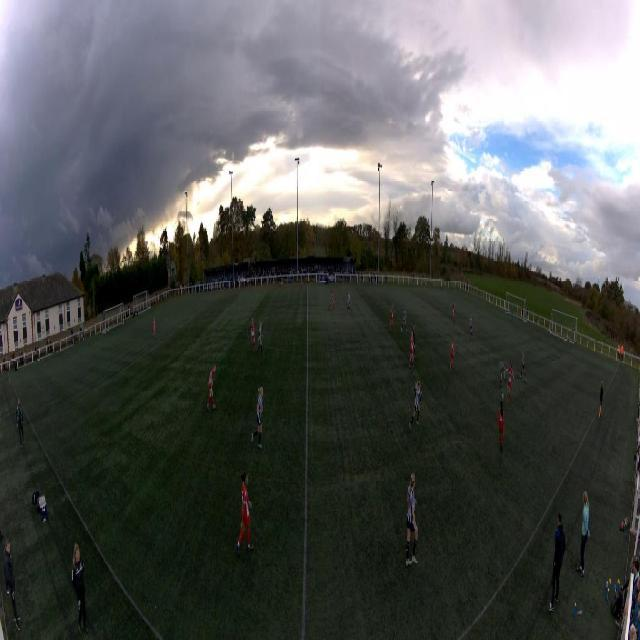ball: (501, 393, 504, 400)
player: (404, 472, 422, 567), (235, 471, 254, 557), (251, 384, 265, 446), (408, 381, 422, 429), (206, 364, 217, 415), (497, 400, 505, 449), (506, 361, 514, 403), (409, 329, 415, 375), (520, 351, 527, 383), (257, 323, 263, 354), (499, 358, 505, 389), (251, 318, 256, 353), (450, 338, 455, 369), (401, 307, 407, 332), (389, 304, 394, 333), (412, 324, 416, 356), (329, 290, 335, 311), (469, 314, 473, 338), (153, 316, 157, 338), (452, 301, 456, 323), (347, 291, 351, 312), (511, 305, 514, 323)
